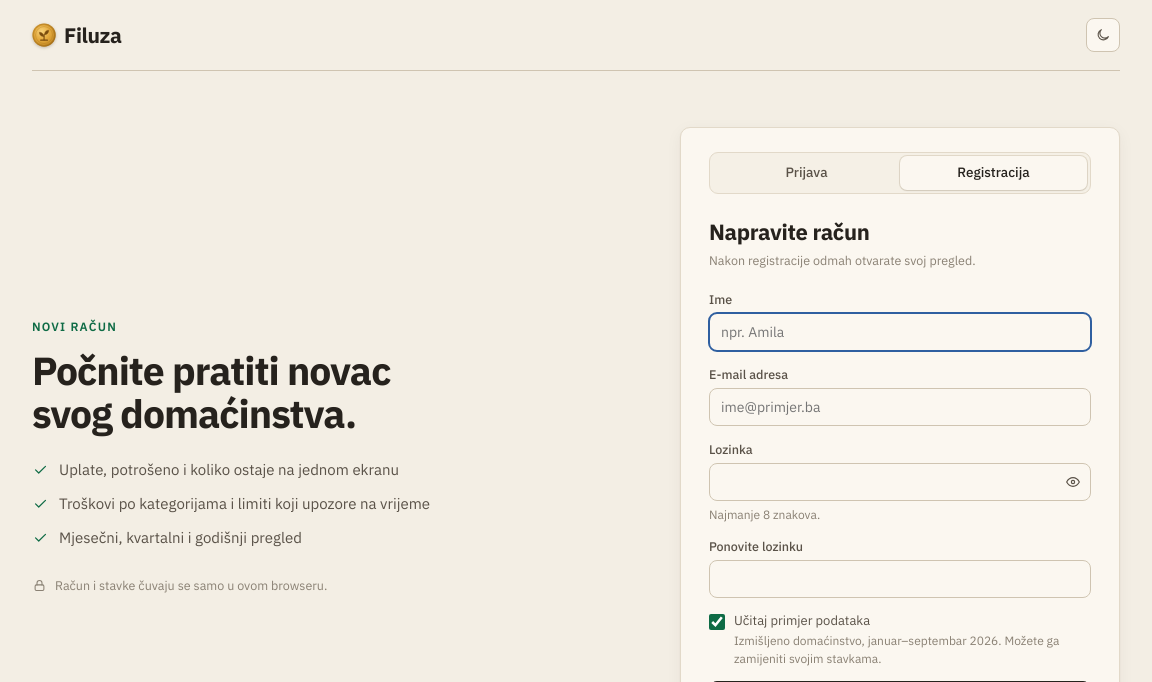
registracija › bez primjera podataka otvara prazan dashboard s dobrodošlicom
The image size is (1152, 682).
Type "Amila Hodžić" into the field labelled "Ime" at [900, 332], box [709, 313, 1091, 351]
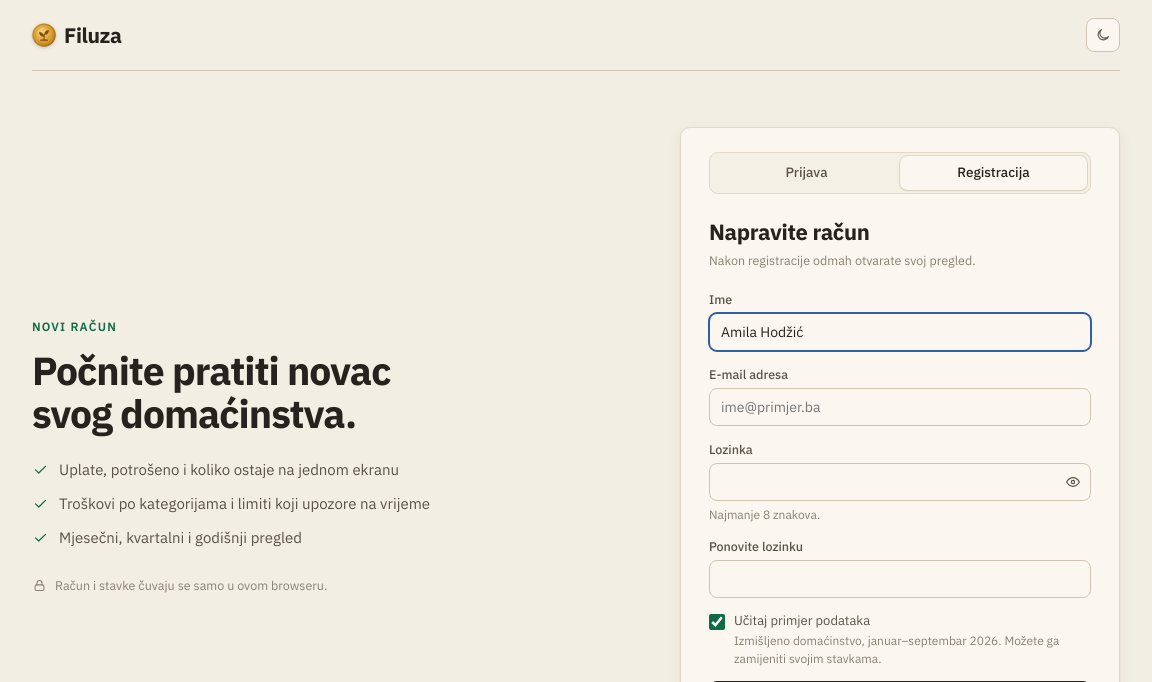
Type "amila@primjer.ba" into the field labelled "E-mail adresa" at [900, 407], box [709, 388, 1091, 426]
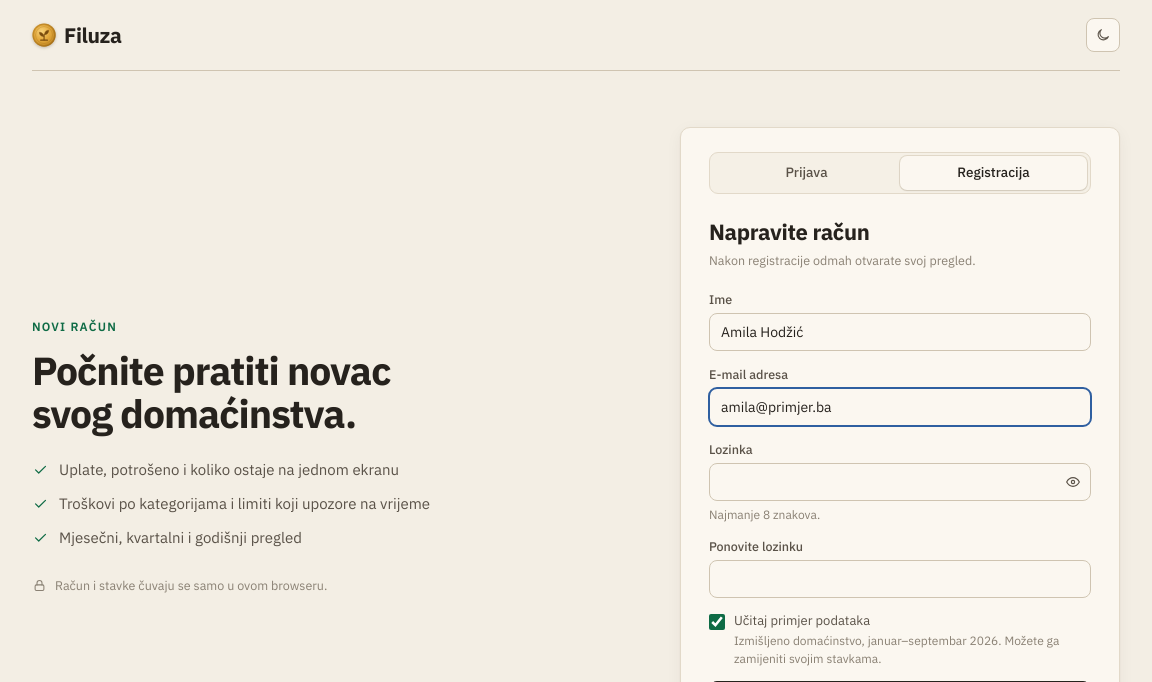
Type "tajna1234" into the password field labelled "Lozinka" at [900, 482], box [709, 463, 1091, 501]
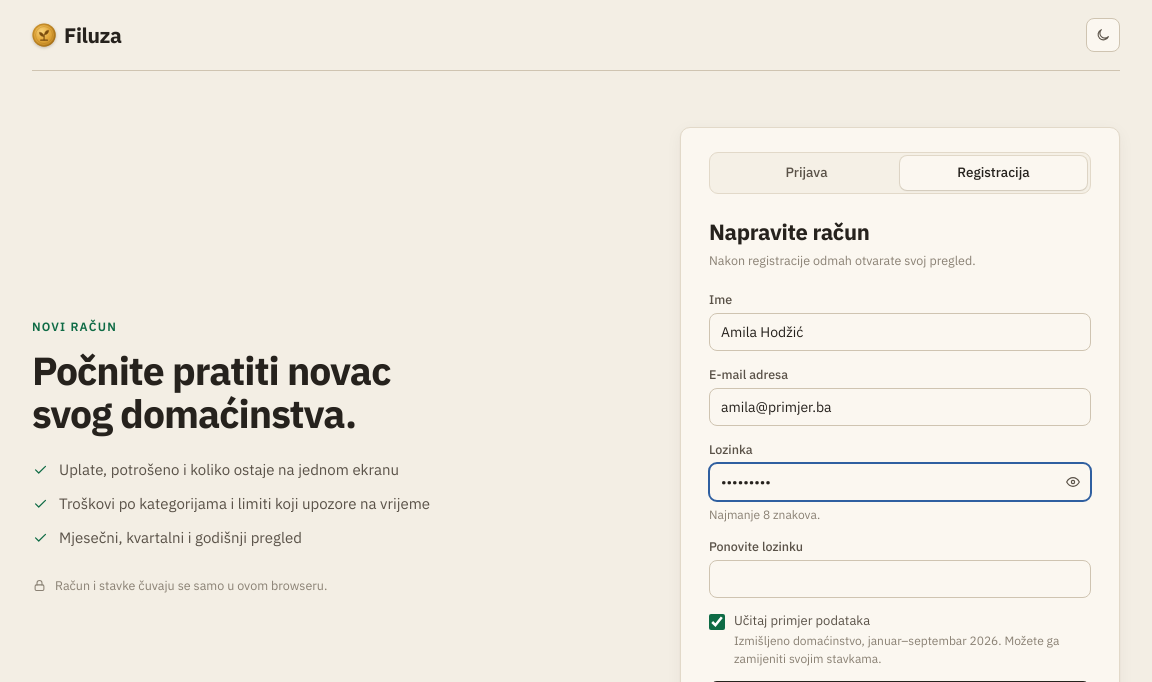
Type "tajna1234" into the password field labelled "Ponovite lozinku" at [900, 580], box [709, 560, 1091, 598]
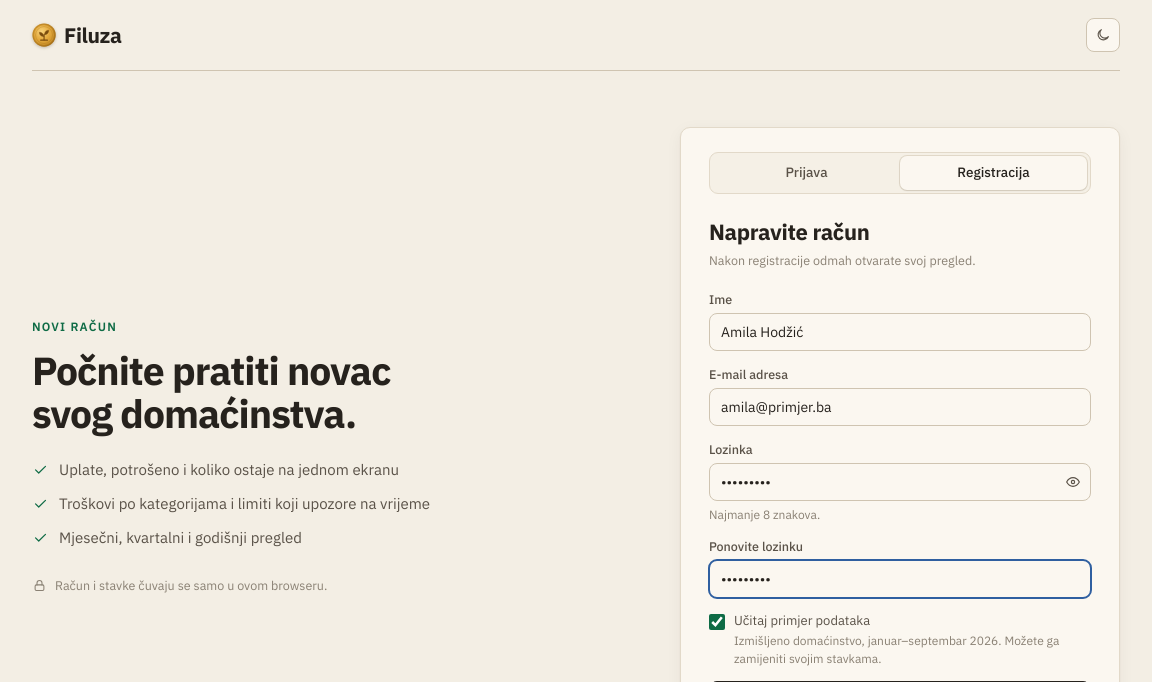
Click the checkbox labelled "Učitaj primjer podataka" at [717, 622], box [709, 614, 725, 630]
(page scrolled)
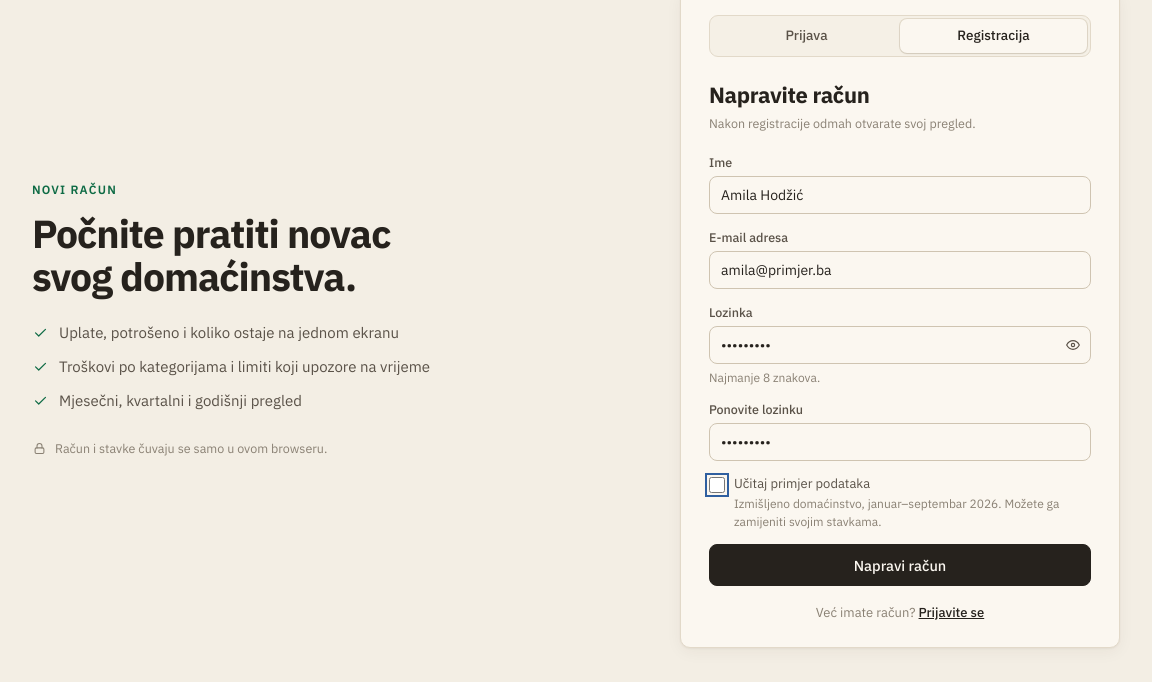
Click the button "Napravi račun" at [900, 565], box [709, 544, 1091, 586]
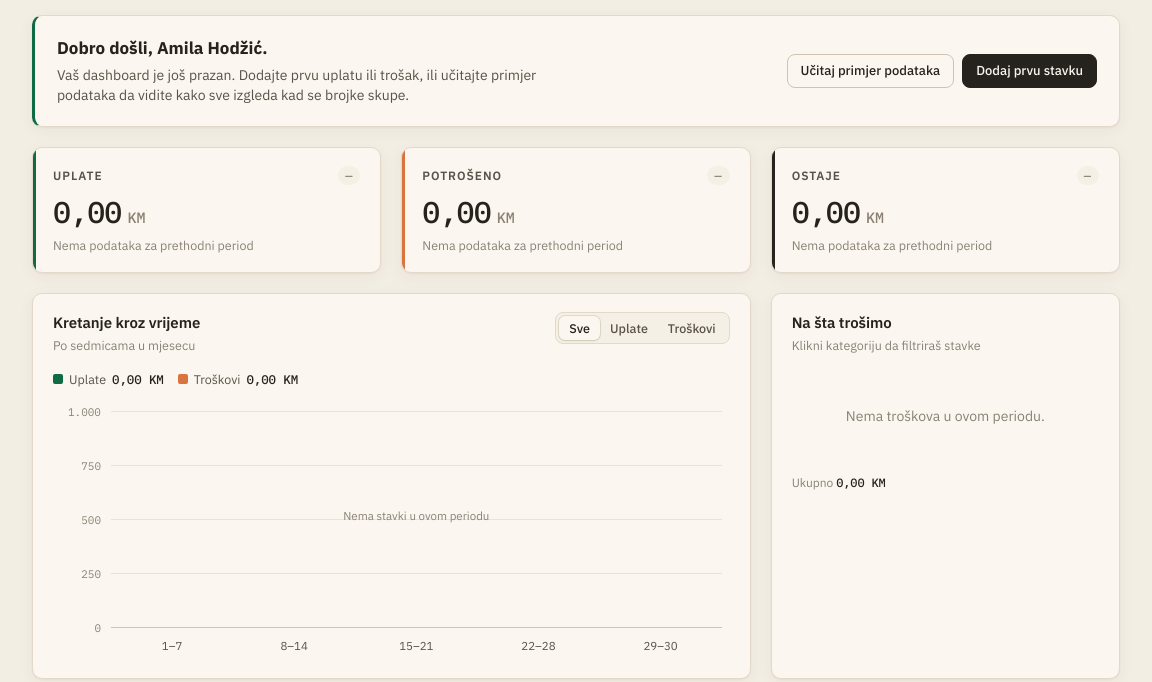
Check: the heading "Kretanje kroz vrijeme" is shown, box [53, 312, 200, 334]
Check: the heading "Dobro došli, Amila Hodžić." is shown, box [57, 38, 268, 60]
